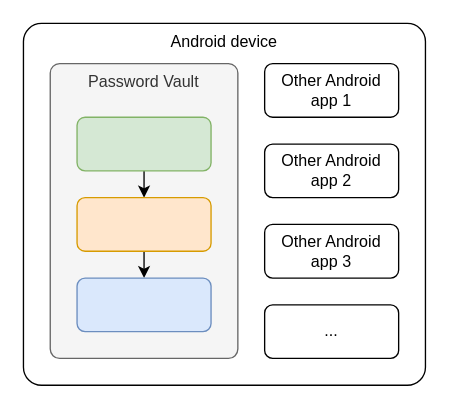
Image size: 449x409. Some labels were removed from this diagram. Each missing label, with the centre of its shape:
":app" goes at [143,143].
":data:accounts" goes at [143,304].
":feature:search" goes at [143,223].
